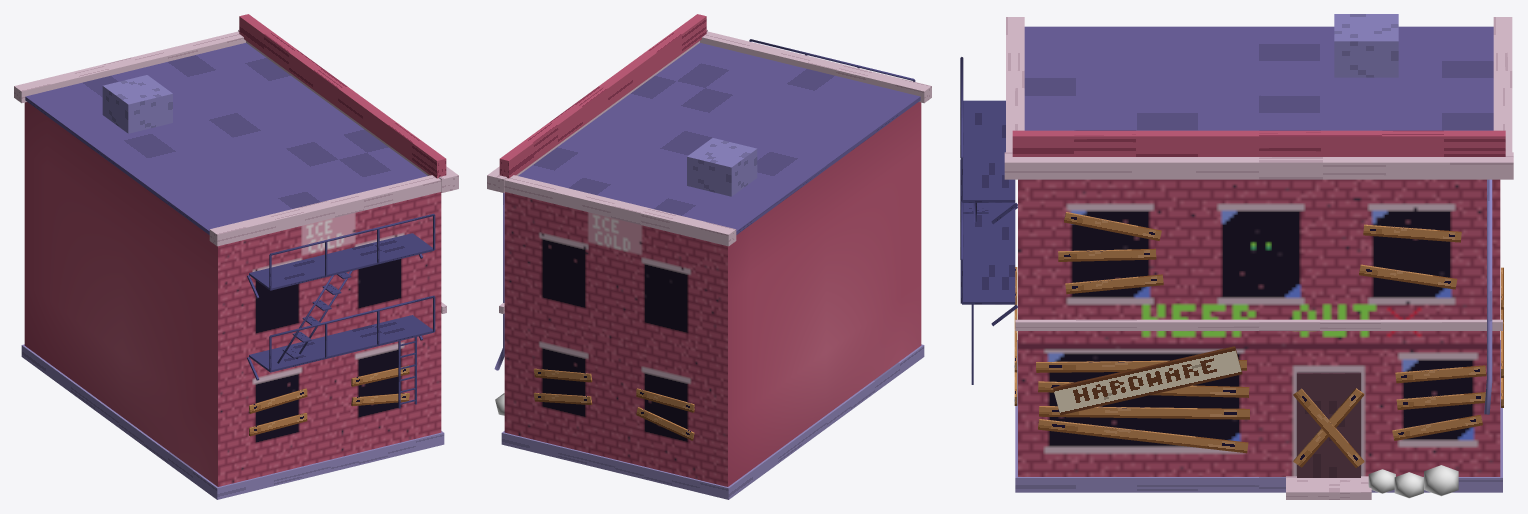
File: Boarded Building.fbx
3 views of the same model, side by side, from view 1: azimuth 30°, elevation 25°; view 2: azimuth 150°, elevation 25°; view 3: azimuth 270°, elevation 25° (orthographic). The views are drawn at different scales.
Parts seen in each view (by area): view 1: Boarded Building walls, Boarded Building side 1, Boarded Building roof, Boarded Building parapet, Boarded Building foundation, Boarded Building side cornice 1, Boarded Building escape deck 5.45, Boarded Building escape deck 3.35, Boarded Building roof hatch, Boarded Building side cornice -1, Boarded Building cornice, Boarded Building side plank 1 0 1 (+5 smaller); view 2: Boarded Building side -1, Boarded Building walls, Boarded Building roof, Boarded Building parapet, Boarded Building foundation, Boarded Building side cornice -1, Boarded Building roof hatch, Boarded Building side cornice 1, Boarded Building cornice, Boarded Building side plank -1 1 0, Boarded Building side plank -1 1 1, Boarded Building side plank -1 0 1 (+2 smaller); view 3: Boarded Building walls, Boarded Building roof, Boarded Building parapet, Boarded Building cornice, Boarded Building belt, Boarded Building foundation, Boarded Building sign.001, Boarded Building escape deck 3.35, Boarded Building door.001, Boarded Building escape deck 5.45, Boarded Building roof hatch, Boarded Building side cornice -1 (+19 smaller).
Part boxes in pixels (x1,y1,x2,y2): Boarded Building walls: [24, 102, 217, 486]; Boarded Building side 1: [218, 192, 441, 486]; Boarded Building roof: [25, 43, 427, 234]; Boarded Building parapet: [239, 14, 446, 178]; Boarded Building foundation: [21, 344, 444, 499]; Boarded Building side cornice 1: [209, 175, 441, 246]; Boarded Building escape deck 5.45: [249, 233, 433, 290]; Boarded Building escape deck 3.35: [249, 315, 434, 372]; Boarded Building roof hatch: [102, 75, 172, 133]; Boarded Building side cornice -1: [14, 31, 245, 103]; Boarded Building cornice: [238, 30, 458, 192]; Boarded Building side plank 1 0 1: [249, 388, 307, 413]; Boarded Building side -1: [504, 192, 727, 486]; Boarded Building walls: [728, 102, 921, 486]; Boarded Building roof: [518, 43, 920, 234]; Boarded Building parapet: [499, 14, 706, 178]; Boarded Building foundation: [501, 344, 924, 499]; Boarded Building side cornice -1: [504, 175, 736, 246]; Boarded Building roof hatch: [687, 138, 757, 196]; Boarded Building side cornice 1: [700, 31, 931, 103]; Boarded Building cornice: [487, 30, 707, 192]; Boarded Building side plank -1 1 0: [636, 407, 694, 440]; Boarded Building side plank -1 1 1: [636, 388, 694, 412]; Boarded Building side plank -1 0 1: [533, 368, 592, 382]; Boarded Building walls: [1018, 179, 1500, 476]; Boarded Building roof: [1024, 26, 1493, 130]; Boarded Building parapet: [1012, 130, 1505, 156]; Boarded Building cornice: [1004, 152, 1513, 179]; Boarded Building belt: [1015, 319, 1502, 330]; Boarded Building foundation: [1015, 340, 1502, 492]; Boarded Building sign.001: [1053, 346, 1242, 415]; Boarded Building escape deck 3.35: [962, 202, 1015, 304]; Boarded Building door.001: [1297, 372, 1360, 477]; Boarded Building escape deck 5.45: [962, 100, 1015, 202]; Boarded Building roof hatch: [1334, 14, 1398, 77]; Boarded Building side cornice -1: [1493, 17, 1512, 152].
Bounding box in the file's own units: 7.04 × 7.5 × 10.33.
Materials: 13 (12 with a texture image).
